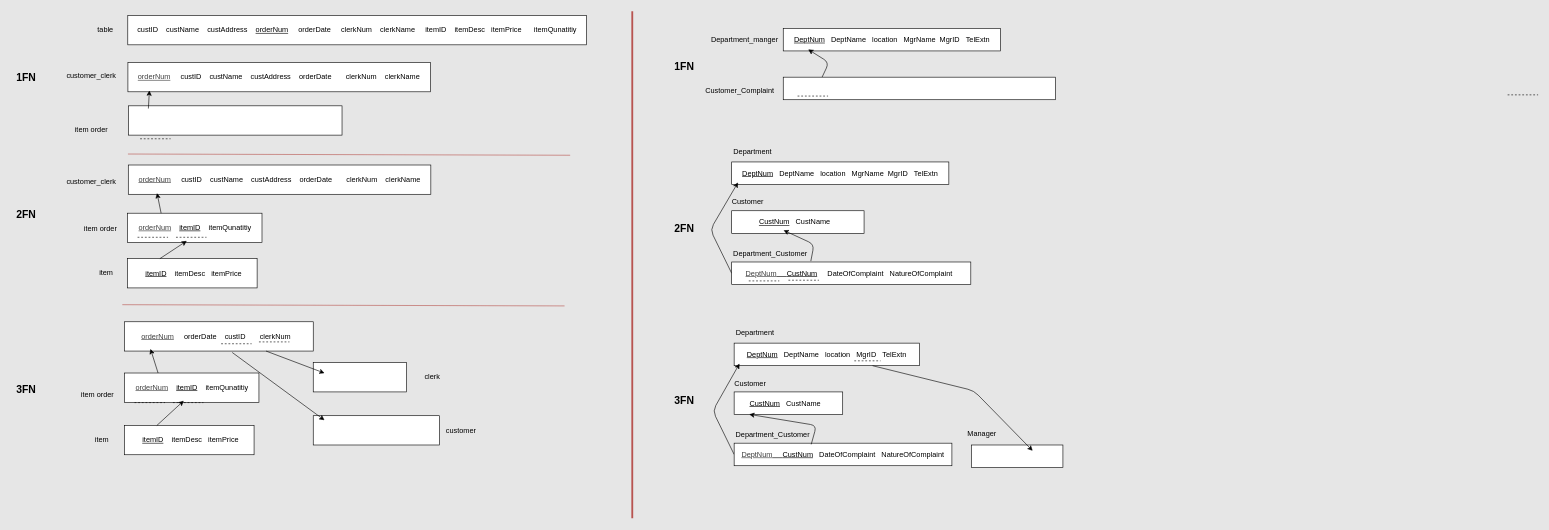
Some shapes in this 1549 by 530 pixel diagram are drawn without their labels. Each missing label, with the centre of its shape:
"clerkNum clerkName" belongs at point 360,377.
"custID custName custAddress" belongs at point 376,430.
"DeptNum CustNum Cust Name DateOfComplaint NatureOfComplaint" belongs at point 919,88.
"MgrName MgrID" belongs at point 1017,456.
"orderNum itemID itemDesc itemPrice itemQunatitiy" belongs at point 235,120.
